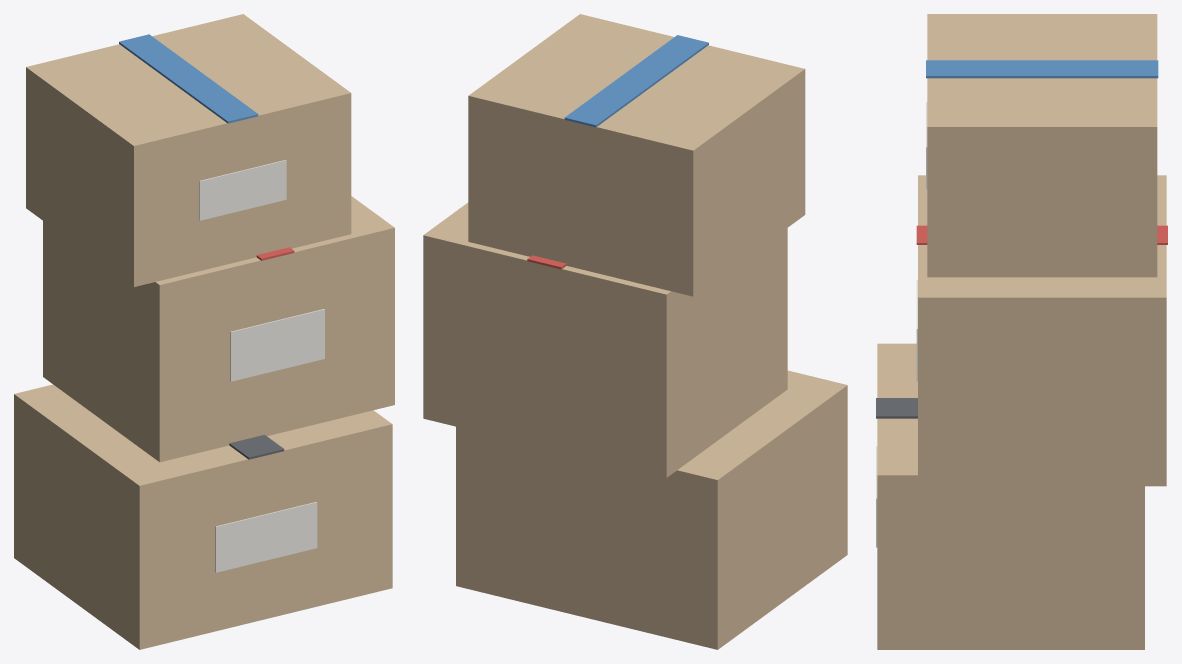
The model's file is parcel-depot-and-sorting-hall-parcel-depot-and-sorting-f2bd236d__34800.glb.
3 views of the same model, side by side, from view 1: azimuth 30°, elevation 25°; view 2: azimuth 150°, elevation 25°; view 3: azimuth 270°, elevation 25° (orthographic). The views are drawn at different scales.
Parts seen in each view (by area): view 1: parcel-depot-and-sorting-hall-parcel-stack-small; view 2: parcel-depot-and-sorting-hall-parcel-stack-small; view 3: parcel-depot-and-sorting-hall-parcel-stack-small.
Boxes of the visible parts, <box> form: parcel-depot-and-sorting-hall-parcel-stack-small: <box>14,14,394,649</box>; parcel-depot-and-sorting-hall-parcel-stack-small: <box>423,14,847,649</box>; parcel-depot-and-sorting-hall-parcel-stack-small: <box>876,14,1167,649</box>.
Bounding box in the file's own units: 0.5426 × 0.9154 × 0.469.
